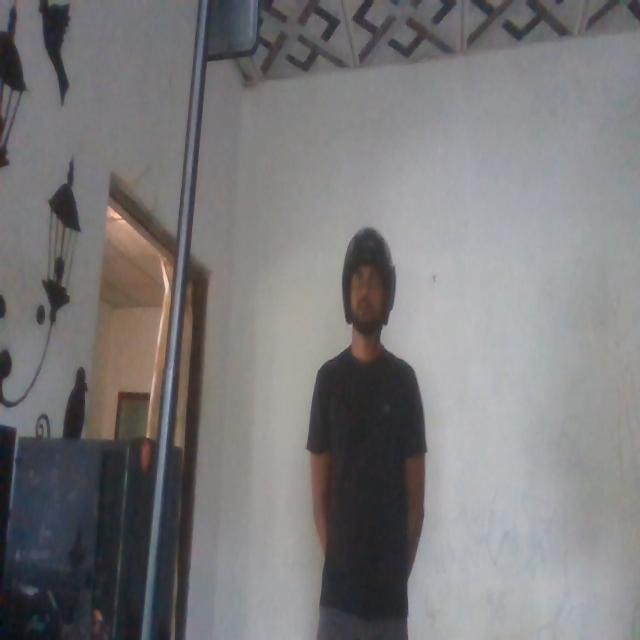Helmet_Wearer: (338, 224, 396, 340)
Person: (300, 228, 424, 640)
